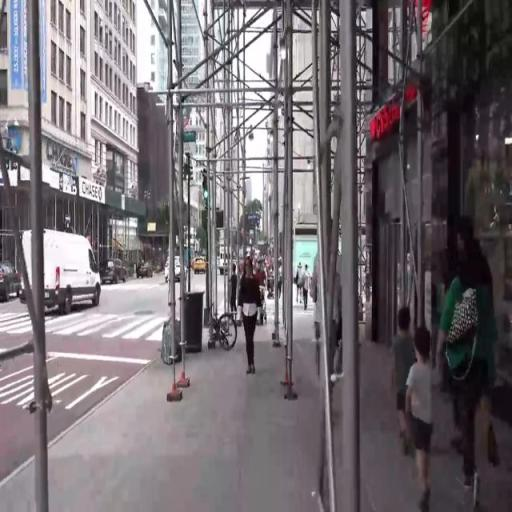person: (443, 227, 488, 509), (318, 225, 347, 404), (415, 335, 434, 497), (241, 259, 261, 387), (393, 306, 413, 429)
